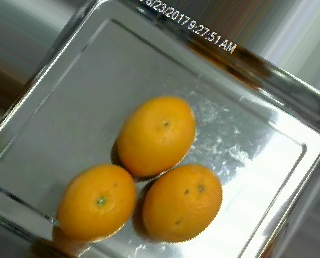Orange: (116, 95, 197, 176), (140, 162, 221, 243), (56, 163, 137, 242)
